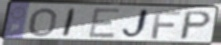E: (87, 7, 122, 40)
F: (150, 10, 183, 40)
I: (60, 8, 78, 39)
J: (120, 8, 151, 41)
O: (27, 7, 59, 38)
P: (178, 10, 214, 41)
